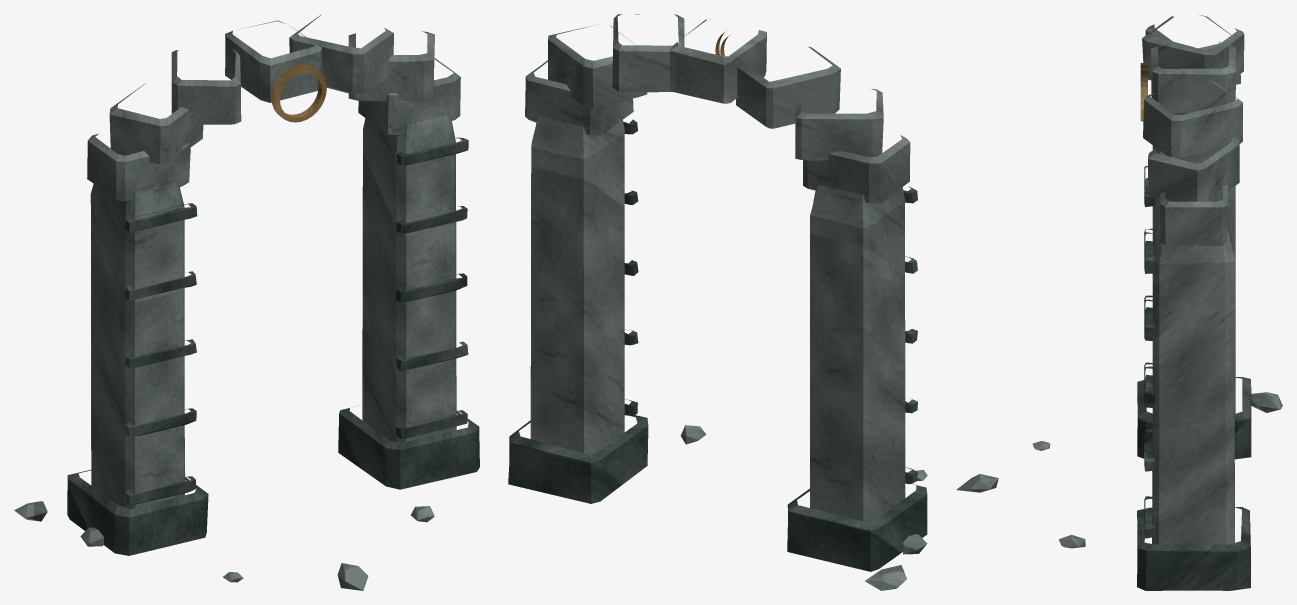
File: 0306_archway_06.glb
3 views of the same model, side by side, from view 1: azimuth 30°, elevation 25°; view 2: azimuth 150°, elevation 25°; view 3: azimuth 270°, elevation 25° (orthographic). The views are drawn at different scales.
Parts seen in each view (by area): view 1: stone, stone_dark, brass; view 2: stone, stone_dark; view 3: stone, stone_dark.
Boxes of the visible parts, x1=… form: stone: x1=14, y1=14, x2=460, y2=590; stone_dark: x1=67, y1=137, x2=479, y2=555; brass: x1=271, y1=64, x2=326, y2=122; stone: x1=525, y1=14, x2=927, y2=590; stone_dark: x1=508, y1=119, x2=927, y2=571; stone: x1=956, y1=14, x2=1282, y2=548; stone_dark: x1=1137, y1=166, x2=1251, y2=590.
Bounding box in the file's own units: 3.41 × 3.76 × 2.46.
3 materials, 3 textured.
